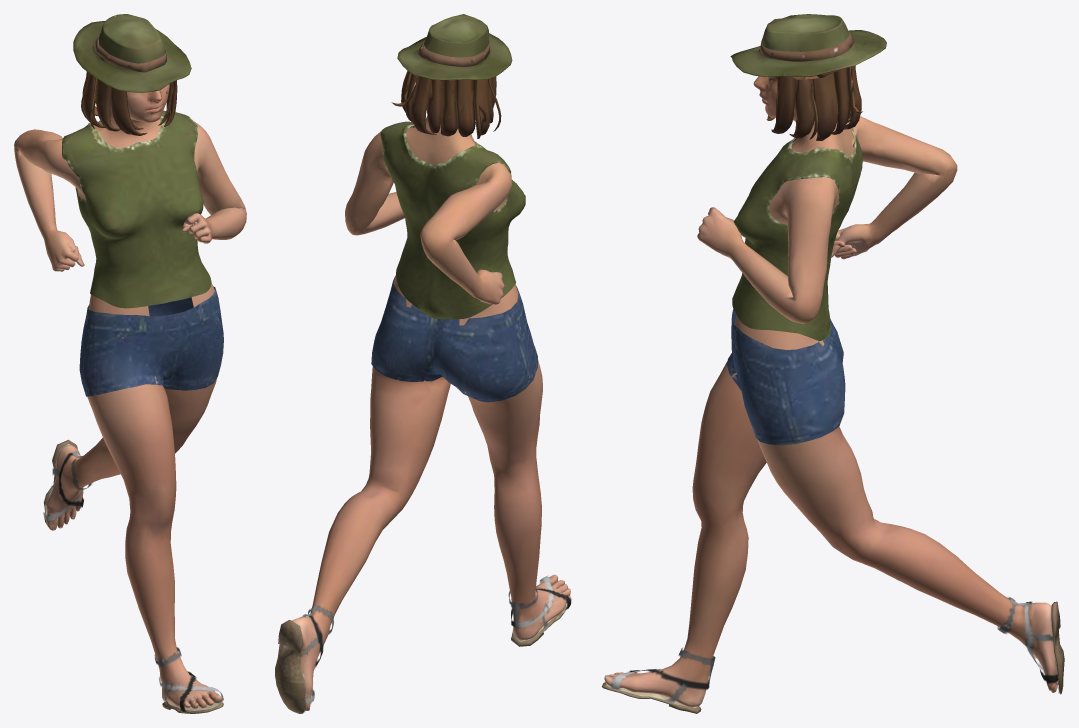
The picture shows the model from 3 angles, left to right: view 1: azimuth 30°, elevation 25°; view 2: azimuth 150°, elevation 25°; view 3: azimuth 270°, elevation 25°; orthographic projection. The views are drawn at different scales.
Visible parts, largest first — view 1: p01672; view 2: p01672; view 3: p01672.
Part boxes in pixels (x1,y1,x2,y2): p01672: [14, 14, 246, 713]; p01672: [275, 14, 571, 713]; p01672: [602, 14, 1064, 713].
Size of the model in its own units: 0.4717 by 1.61 by 0.9688.
1 material, 1 textured.
